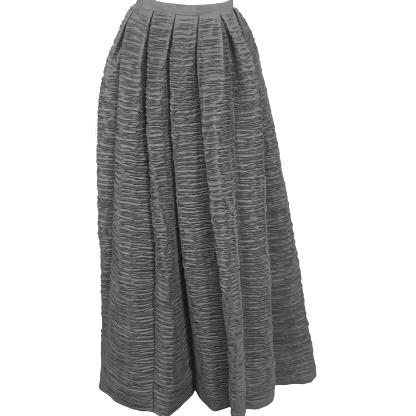dress: (84, 0, 320, 416)
